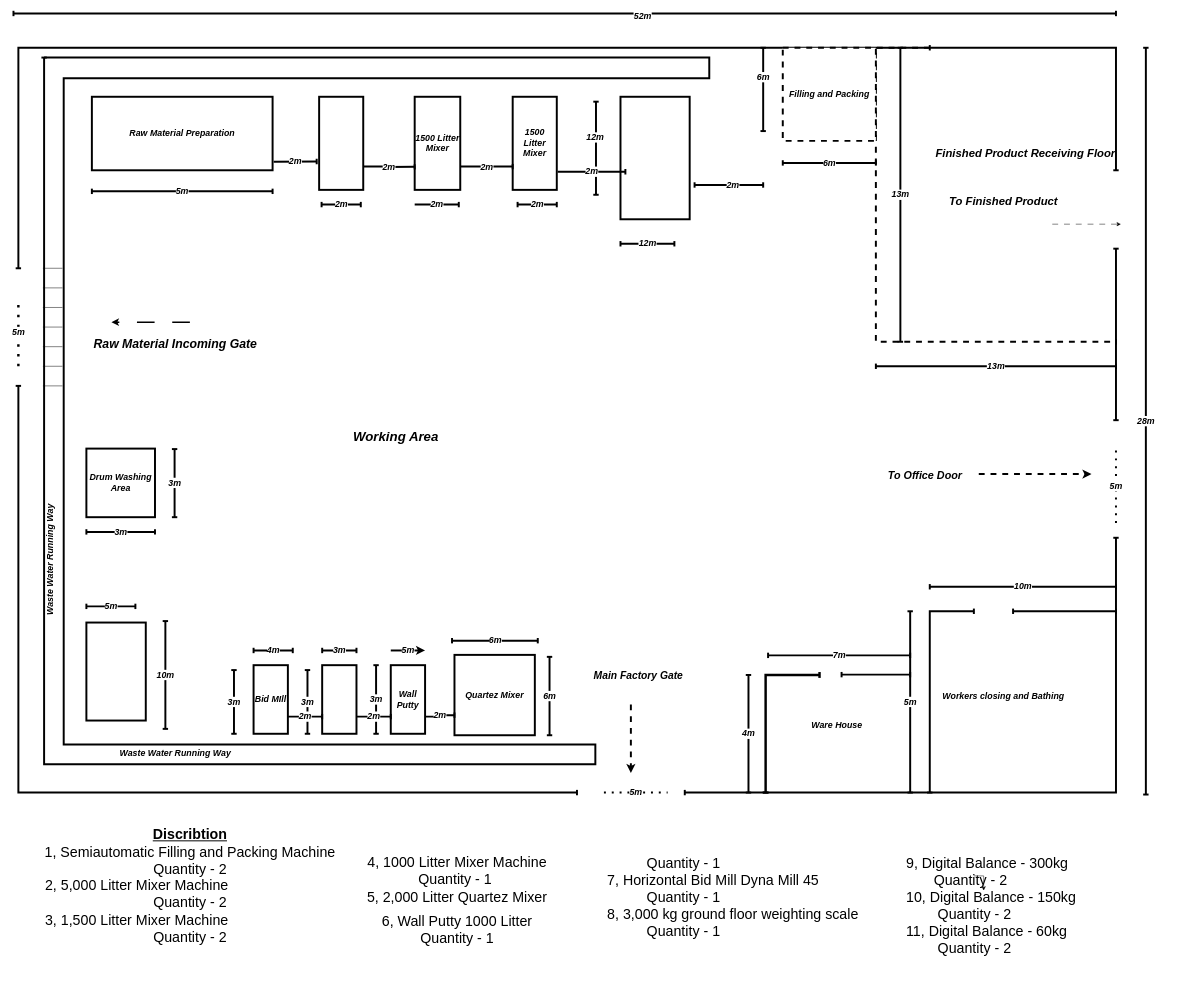
The diagram is 1188 pixels wide and 992 high, and some of its shapes have lost their labels. Each missing label, with the box of its shape:
1000 Litter Mil Base: (318, 96, 364, 191)
Laboratory: (85, 621, 147, 721)
Two 5000 Litter Mixers: (619, 96, 690, 220)
Weight Scale: (321, 664, 357, 735)
